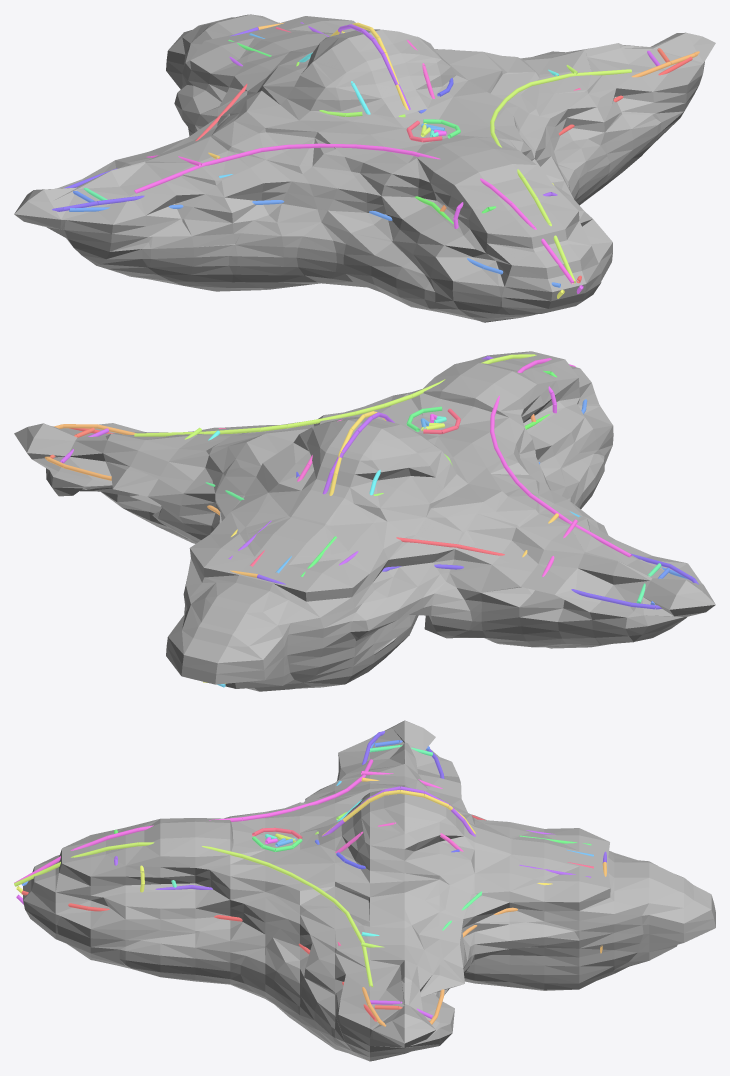
File: author1_ship.gltf
The picture shows the model from 3 angles, top to bottom: view 1: azimuth 30°, elevation 25°; view 2: azimuth 150°, elevation 25°; view 3: azimuth 270°, elevation 25°; orthographic projection. The views are drawn at different scales.
Bounding box in the file's own units: 0.7603 × 0.2048 × 0.7049.
